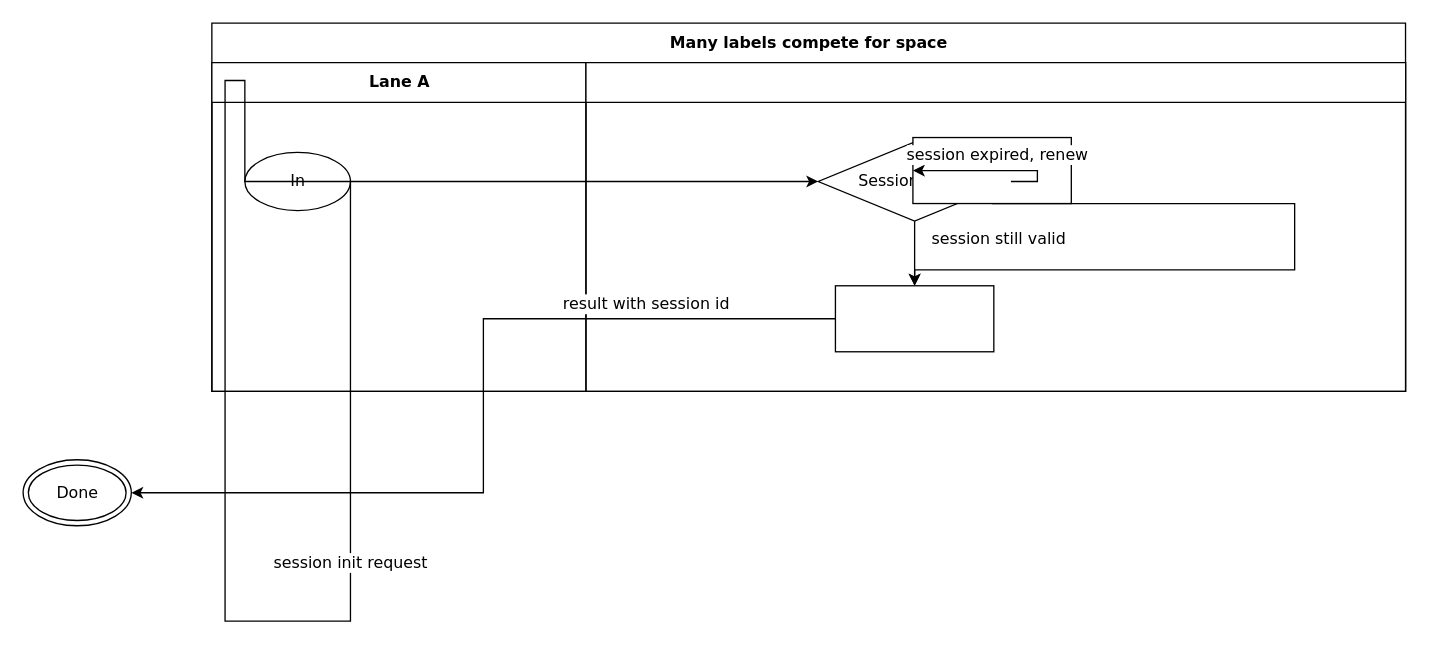
Some shapes in this 1430 by 655 pixel diagram are drawn without their labels. The box of each missing label's shape, as (x1, y1, x2, y2) in pixels:
Lane B: (585, 61, 1406, 391)
New session: (912, 136, 1071, 204)
Return data: (834, 284, 994, 352)
